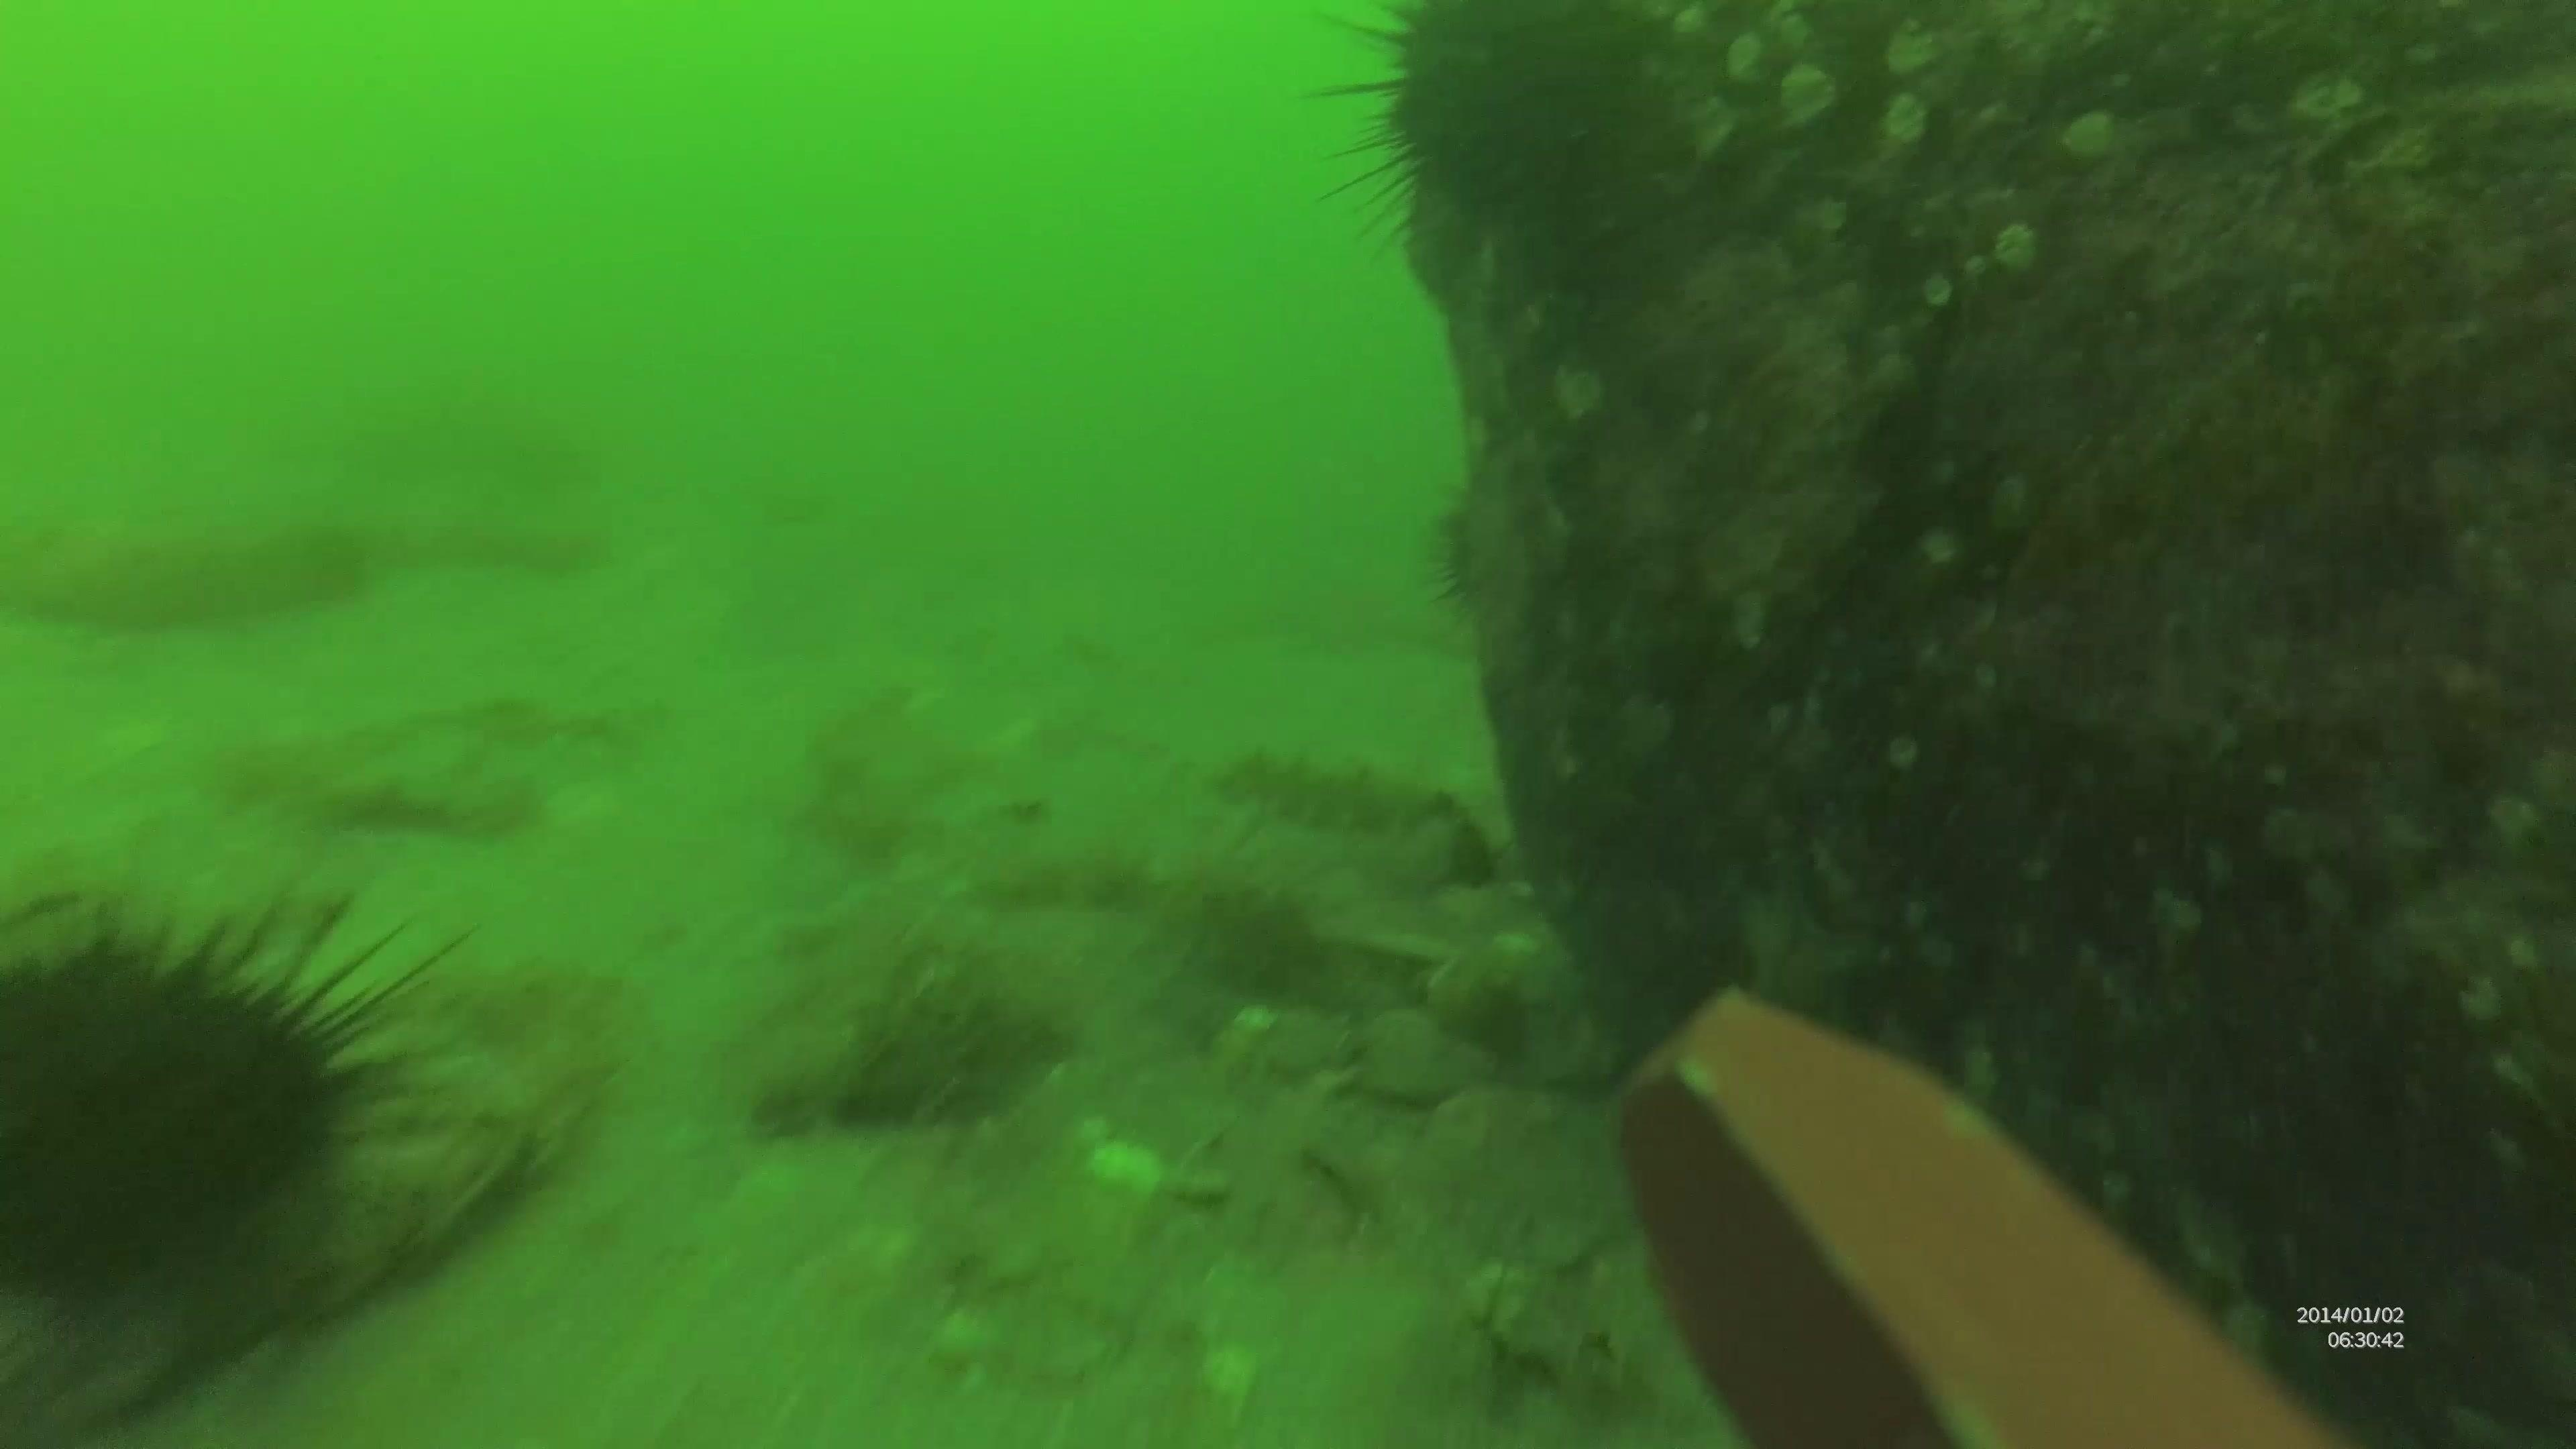echinus: (0, 874, 497, 1327), (1316, 7, 1709, 303)
holothurian: (1203, 732, 1497, 862)
